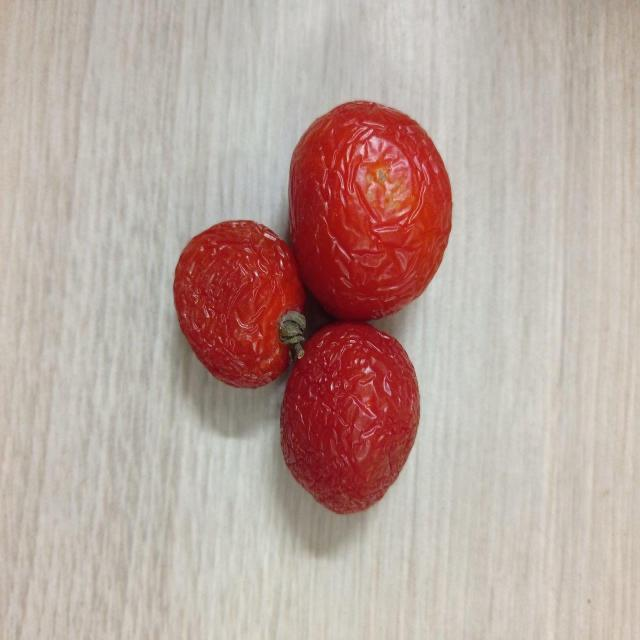overripe: (286, 95, 452, 320), (281, 320, 424, 513), (170, 217, 305, 390)
